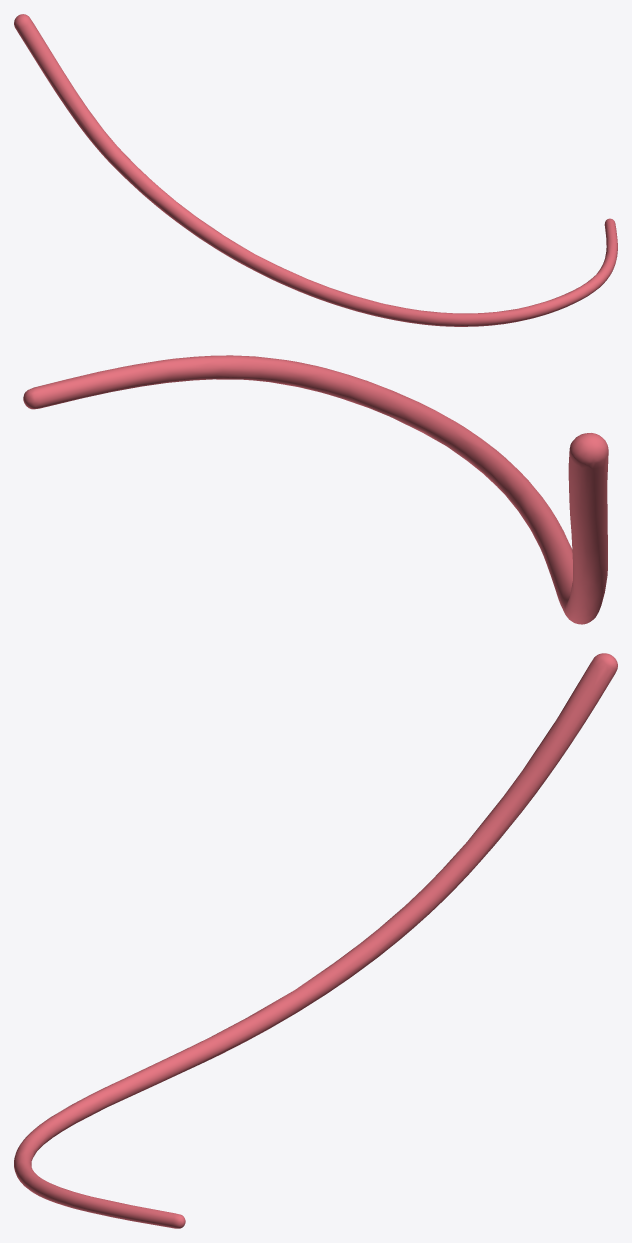
Rendered from fma44888_fj2108.glb.
3 views of the same model, one above another, from view 1: azimuth 30°, elevation 25°; view 2: azimuth 150°, elevation 25°; view 3: azimuth 270°, elevation 25° (orthographic). The views are drawn at different scales.
Parts seen in each view (by area): view 1: FMA44888_FJ2108; view 2: FMA44888_FJ2108; view 3: FMA44888_FJ2108.
Part boxes in pixels (x1,y1,x2,y2): FMA44888_FJ2108: [14, 14, 617, 326]; FMA44888_FJ2108: [23, 355, 608, 624]; FMA44888_FJ2108: [14, 653, 617, 1228].
Bounding box in the file's own units: 0.0693 × 0.0337 × 0.0592.
